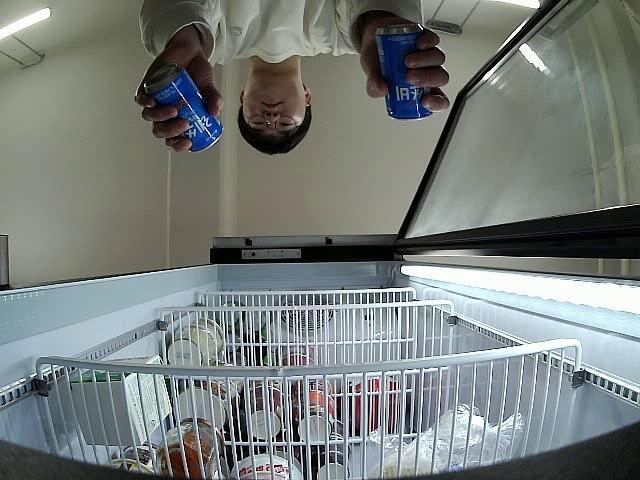15_letsbe: (143, 60, 225, 156), (375, 20, 432, 121)
